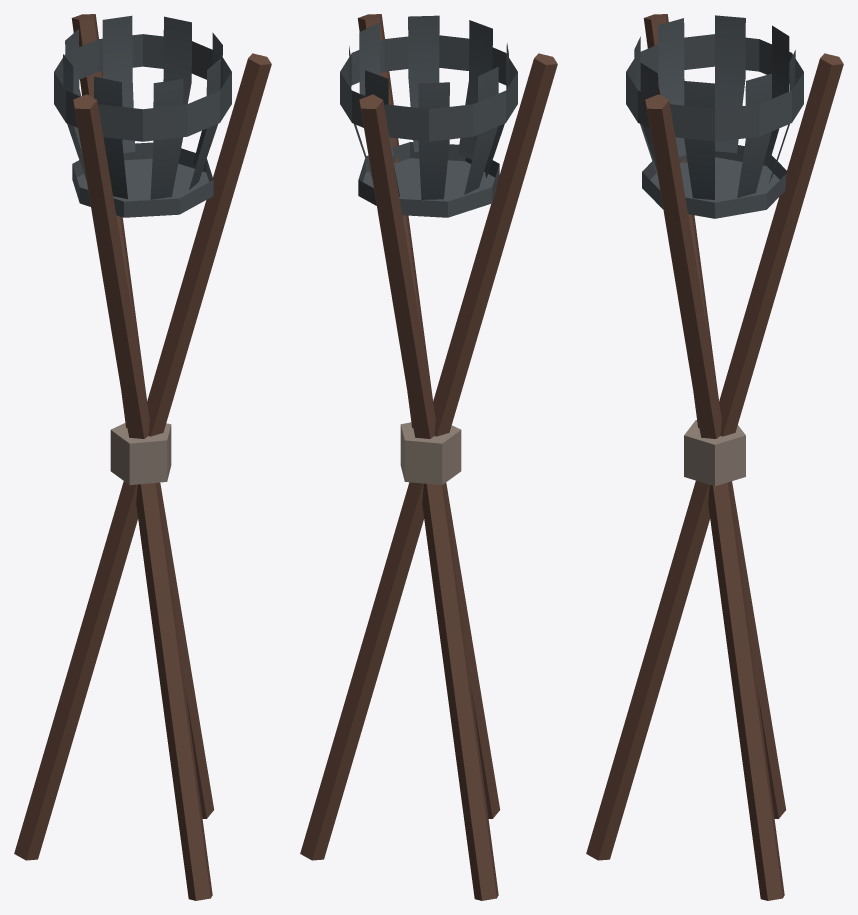
Rendered from torch_obj.fbx.
3 renders of one model, left to right at view 1: azimuth 30°, elevation 25°; view 2: azimuth 150°, elevation 25°; view 3: azimuth 270°, elevation 25°, orthographic.
Parts seen in each view (by area): view 1: torch_mdl; view 2: torch_mdl; view 3: torch_mdl.
Boxes of the visible parts, left/top/right/bottom form: torch_mdl: left=14, top=14, right=271, bottom=900; torch_mdl: left=300, top=14, right=557, bottom=900; torch_mdl: left=586, top=14, right=843, bottom=900.
Size of the model in its own units: 3.49 by 13.75 by 3.97.
Materials: 1 (1 with a texture image).
